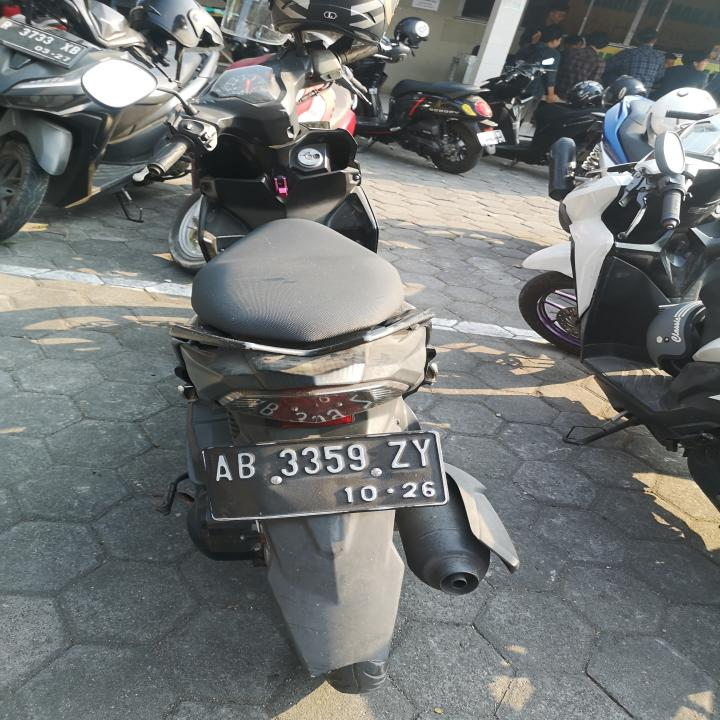plate: (201, 427, 451, 520), (0, 15, 88, 67)
